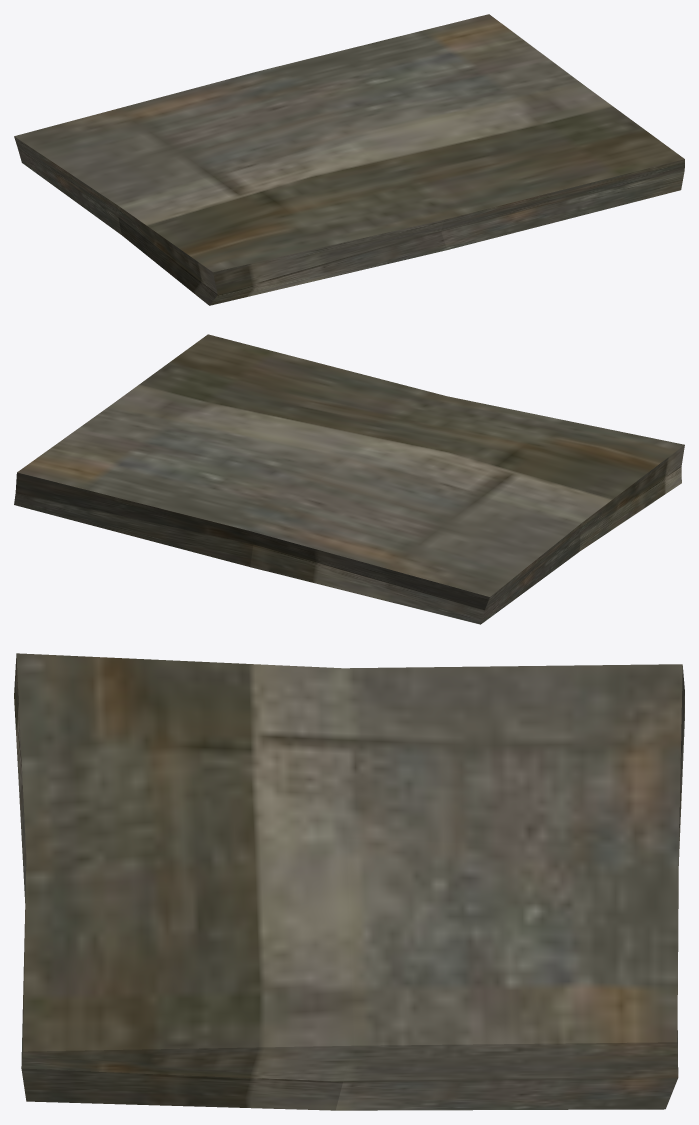
The model's file is board.glb.
3 views of the same model, one above another, from view 1: azimuth 30°, elevation 25°; view 2: azimuth 150°, elevation 25°; view 3: azimuth 270°, elevation 25° (orthographic). The views are drawn at different scales.
Visible parts, largest first — view 1: Cylinder; view 2: Cylinder; view 3: Cylinder.
Boxes of the visible parts, x1=… form: Cylinder: x1=14, y1=14, x2=684, y2=305; Cylinder: x1=14, y1=334, x2=684, y2=624; Cylinder: x1=14, y1=653, x2=684, y2=1110.
Size of the model in its own units: 9.93 by 0.8968 by 7.1.
1 material, 1 textured.
